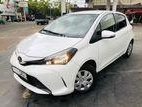car: (10, 9, 137, 101)
